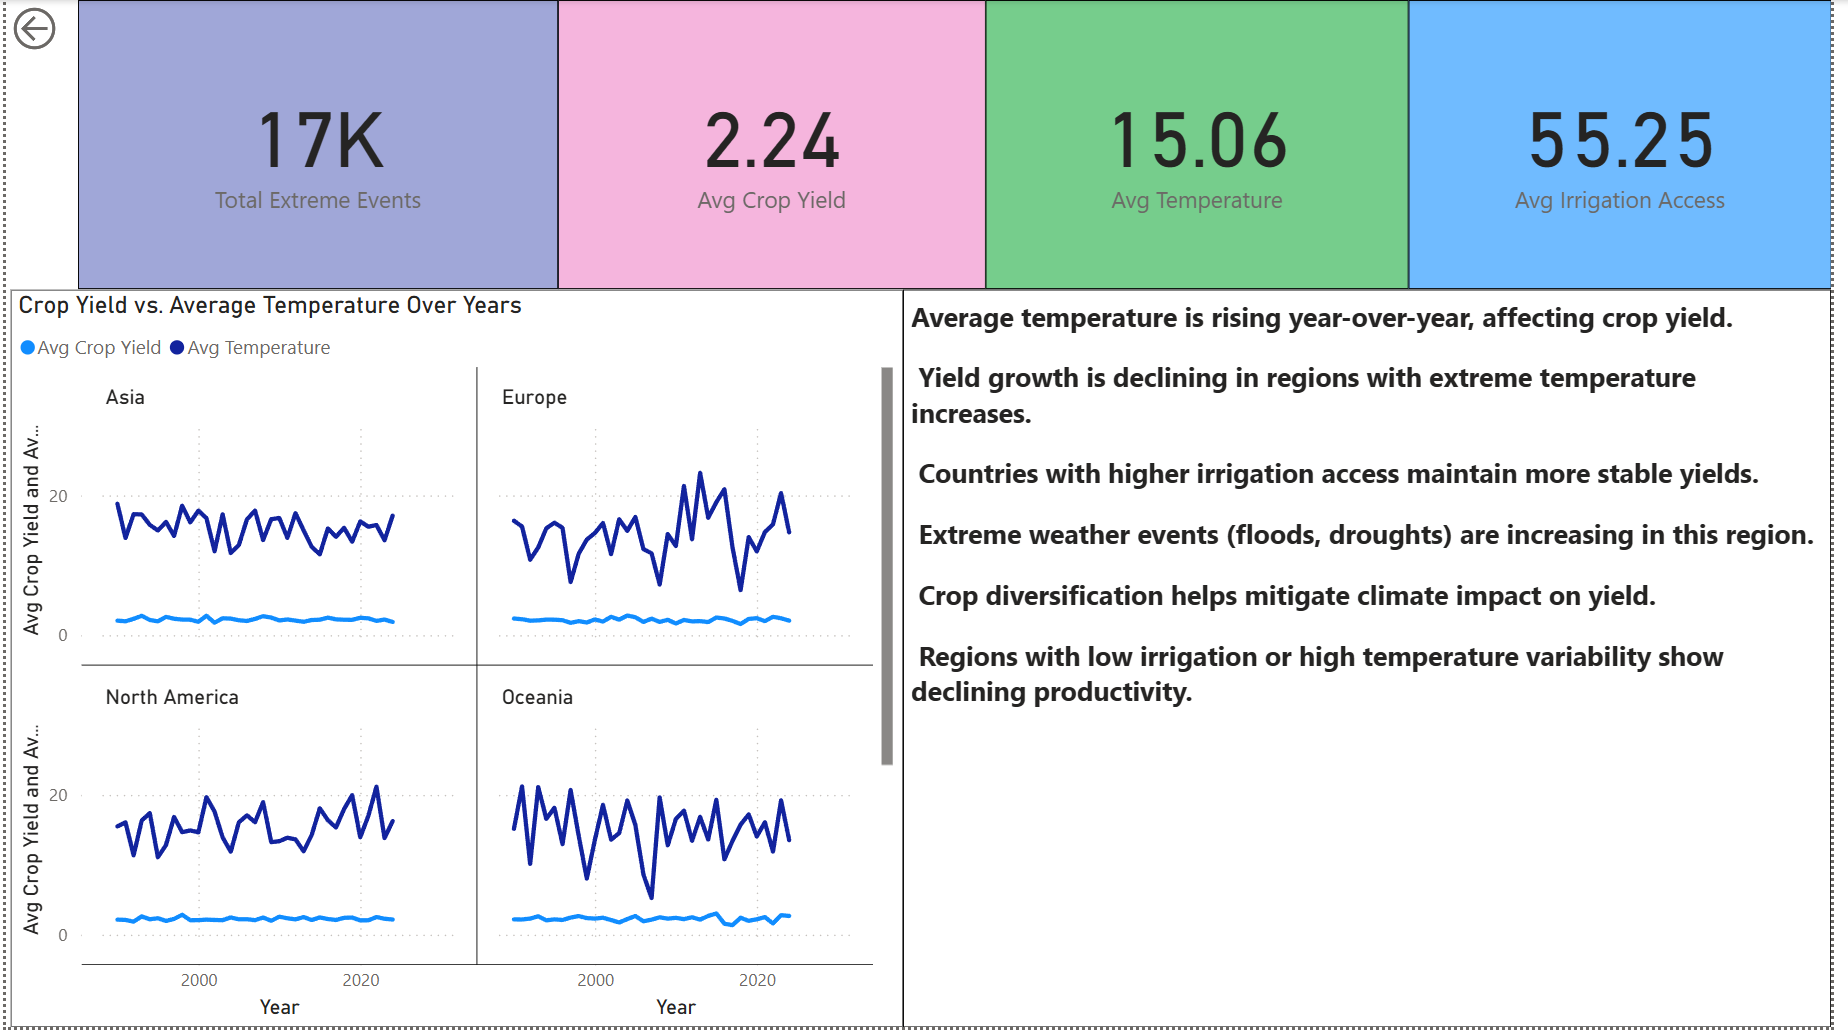

Layout of this report page (visuals, bound fields, positions):
{"tool":"powerbi","page":{"name":"COUNTRY INSIGHTS","canvas":[1280,720],"ordinal":2},"visuals":[{"type":"actionButton","box":[0,0,100,40],"z":0},{"type":"actionButton","box":[0,0,100,40],"z":1000},{"type":"card","fields":{"Values":["FactAgriculture.Avg Crop Yield"]},"box":[387,0,299.7,203],"z":2000},{"type":"card","fields":{"Values":["FactAgriculture.Avg Temperature"]},"box":[686.7,0,296.6,203],"z":3000},{"type":"card","fields":{"Values":["FactAgriculture.Total Extreme Events"]},"box":[50.5,0,336.5,203],"z":4000},{"type":"card","fields":{"Values":["FactAgriculture.Avg Irrigation Access"]},"box":[983.3,0,296.6,203],"z":5000},{"type":"lineChart","title":"Crop Yield vs. Average Temperature Over Years","fields":{"Category":["DimDate.Year"],"Y":["FactAgriculture.Avg Crop Yield","FactAgriculture.Avg Temperature"],"Rows":["DimCountry.Region(1)"]},"box":[3.2,203,625.7,517.4],"z":6000},{"type":"textbox","box":[628.9,203,651,517.4],"z":7000}]}

Visuals, with their boxes in screenshot pixels (x1, y1, x2, y2), scaled from the page's 1280x720 canvas onto the 1848x1030 screenshot:
actionButton: crop(0, 0, 144, 57)
actionButton: crop(0, 0, 144, 57)
card - FactAgriculture.Avg Crop Yield: crop(559, 0, 991, 290)
card - FactAgriculture.Avg Temperature: crop(991, 0, 1420, 290)
card - FactAgriculture.Total Extreme Events: crop(73, 0, 559, 290)
card - FactAgriculture.Avg Irrigation Access: crop(1420, 0, 1847, 290)
"Crop Yield vs. Average Temperature Over Years" lineChart: crop(5, 290, 908, 1029)
textbox: crop(908, 290, 1847, 1029)
